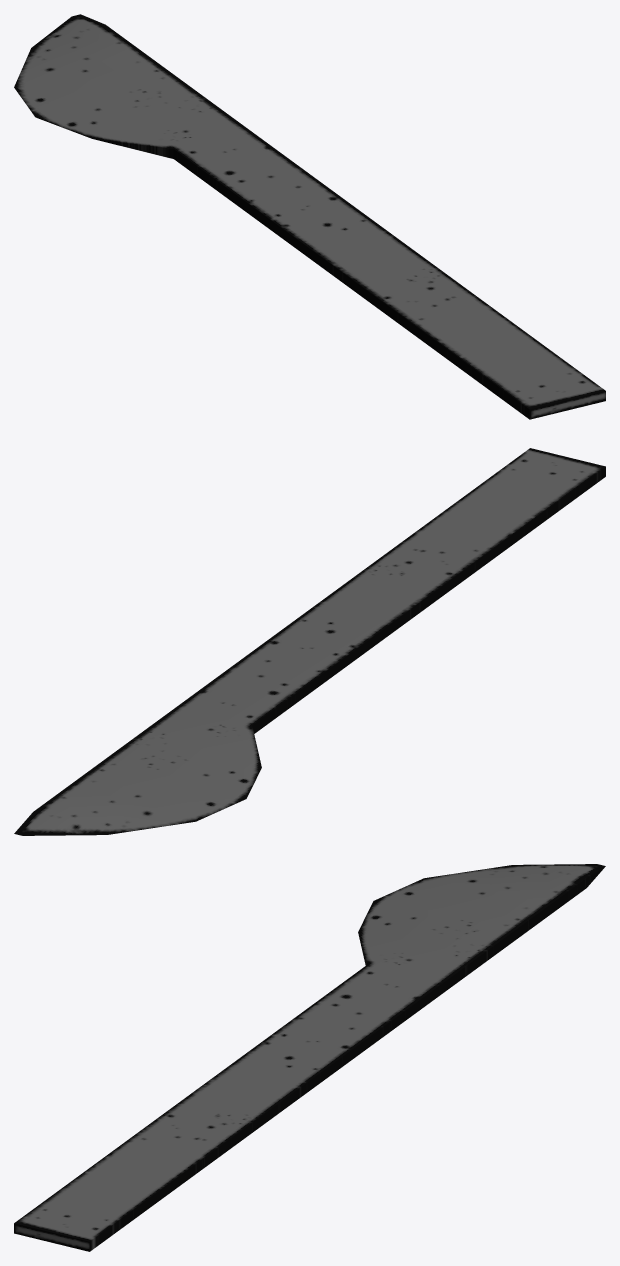
The model's file is Eating_Knife.obj.
3 renders of one model, top to bottom at view 1: azimuth 30°, elevation 25°; view 2: azimuth 150°, elevation 25°; view 3: azimuth 330°, elevation 25°, orthographic.
Parts seen in each view (by area): view 1: Cuchillo; view 2: Cuchillo; view 3: Cuchillo.
Boxes of the visible parts, x1,y1,x2,y2 form: Cuchillo: (14,14,605,419); Cuchillo: (14,448,605,835); Cuchillo: (14,864,605,1251).
Size of the model in its own units: 0.7642 by 0.0523 by 4.85.
